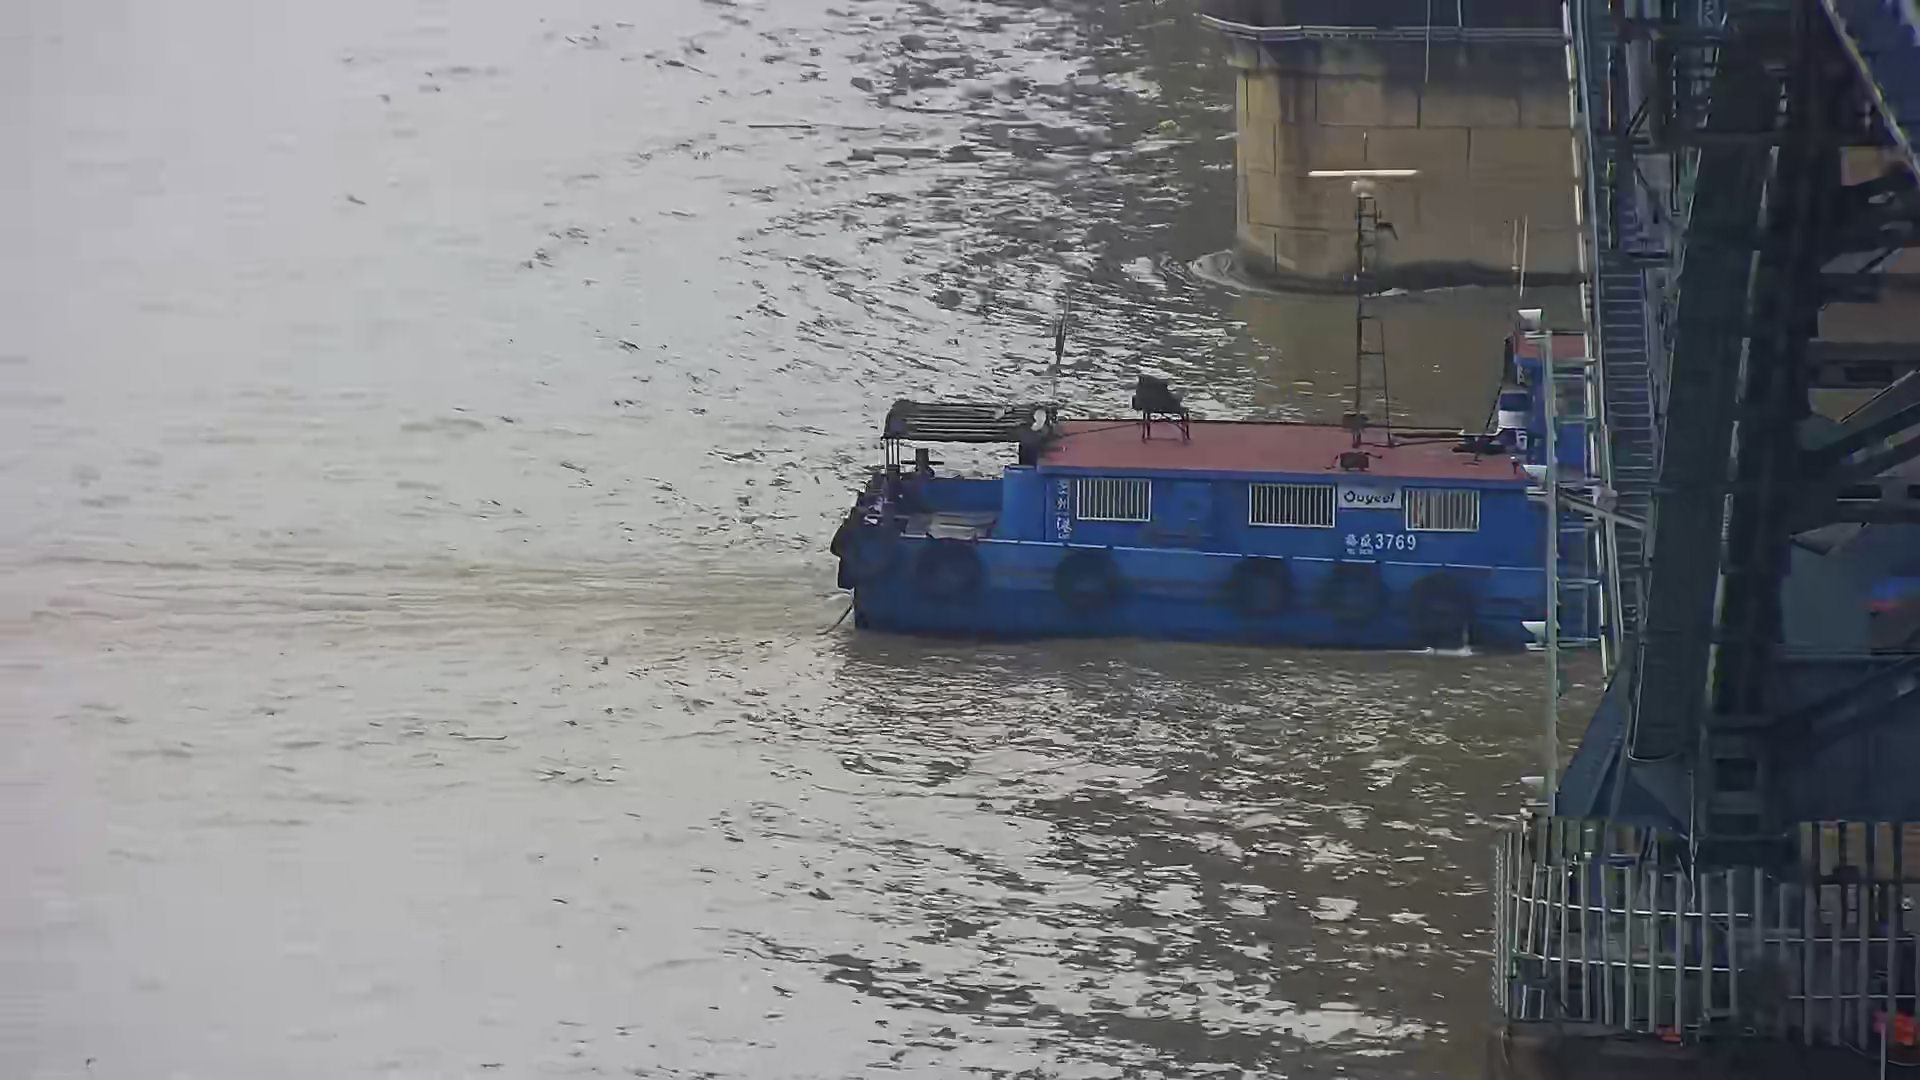boat: (814, 136, 1629, 659)
bridge: (1503, 11, 1920, 1073), (1184, 4, 1585, 286)
